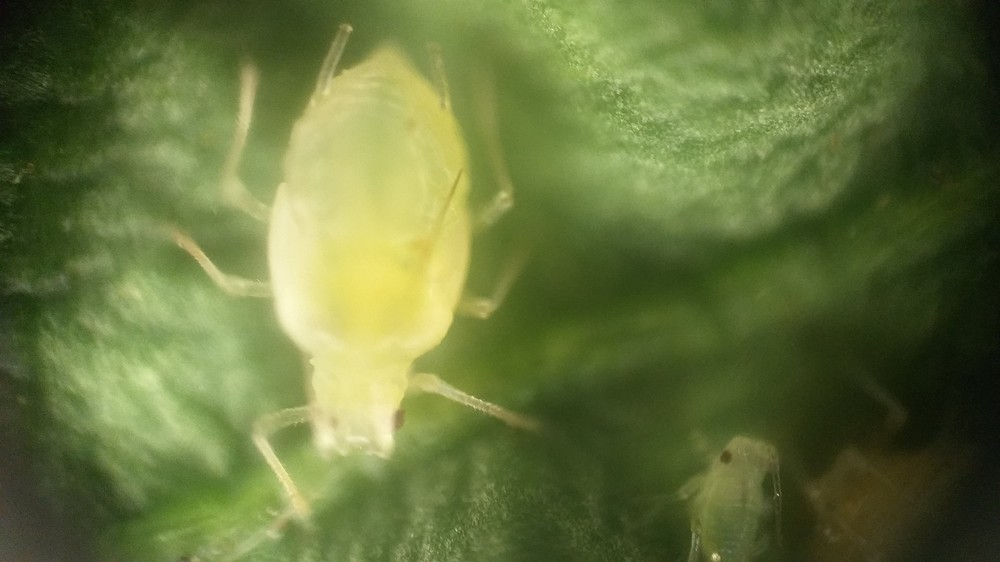Pulgon: (155, 13, 581, 533), (644, 419, 798, 561)
